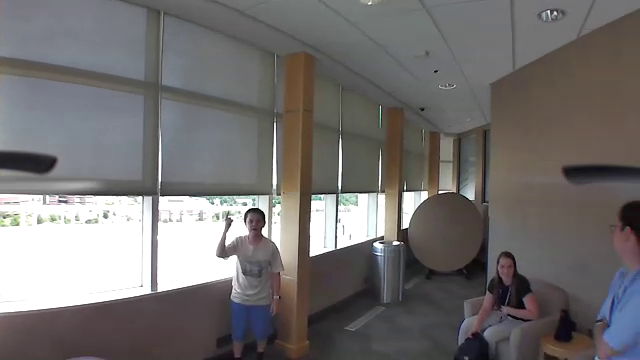up: (221, 207, 236, 233)
